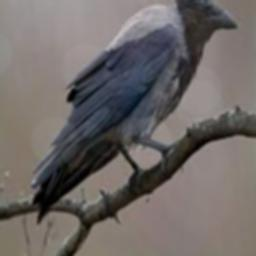Crow: (30, 0, 238, 223)
